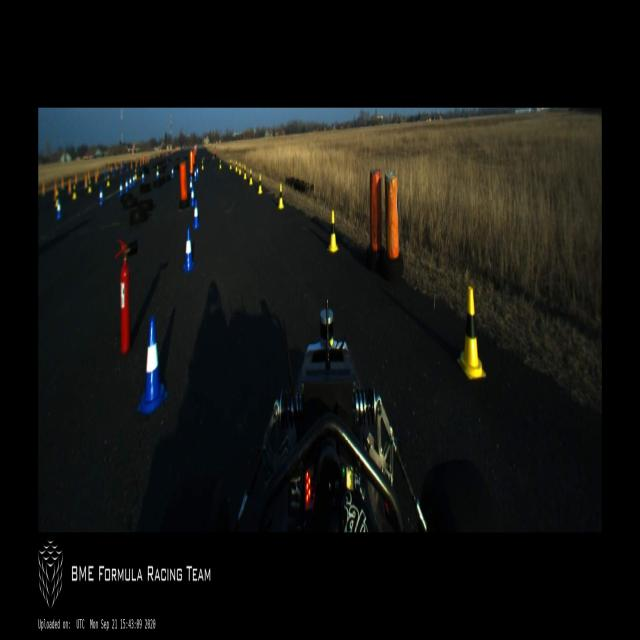blue_cone: (136, 316, 168, 413), (183, 228, 195, 273), (192, 198, 200, 230), (56, 199, 62, 219), (190, 187, 194, 206), (99, 188, 103, 205), (119, 182, 123, 196), (125, 178, 128, 192), (190, 176, 192, 194), (129, 176, 132, 188), (156, 169, 159, 180), (171, 167, 174, 178), (194, 168, 196, 180), (196, 166, 198, 178), (133, 174, 135, 185), (142, 171, 144, 182)
yellow_cone: (458, 287, 486, 378), (328, 210, 338, 252), (278, 183, 284, 209), (258, 174, 262, 194), (72, 185, 77, 199), (249, 168, 253, 185), (55, 191, 58, 207), (88, 180, 91, 193), (235, 160, 238, 172), (107, 175, 110, 186), (244, 166, 246, 180), (239, 162, 241, 174), (230, 158, 232, 170), (202, 158, 204, 170), (220, 158, 222, 168), (135, 169, 137, 179)
